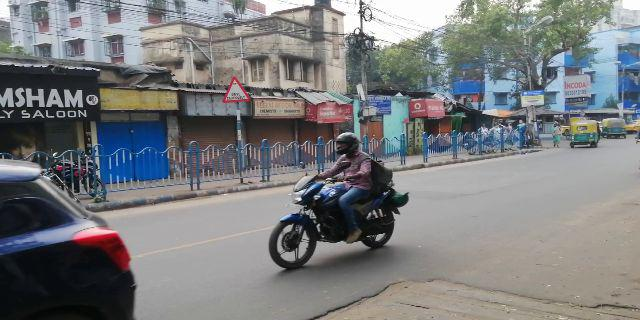Autorickshaw: (569, 121, 599, 151)
Motorbike: (261, 135, 414, 269)
